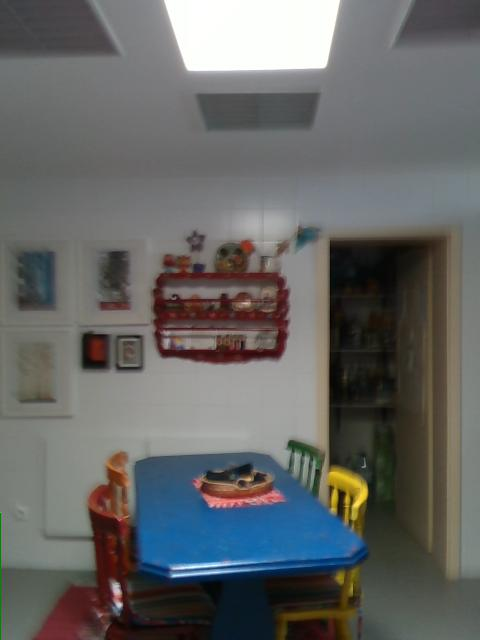open_door: (315, 220, 463, 577)
